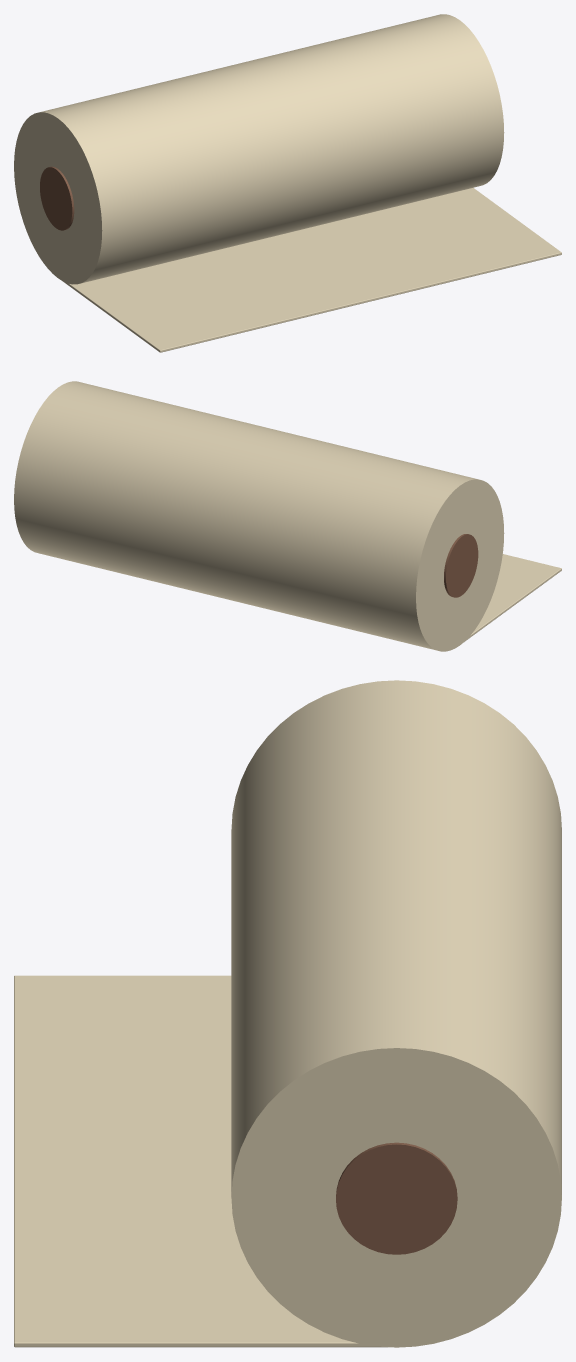
The model's file is griffin-airmail-roost-and-posthouse-wrapping-paper-rol-c3b599dc__30522.glb.
3 views of the same model, one above another, from view 1: azimuth 30°, elevation 25°; view 2: azimuth 150°, elevation 25°; view 3: azimuth 270°, elevation 25° (orthographic). The views are drawn at different scales.
Parts seen in each view (by area): view 1: wrapping-paper-roll; view 2: wrapping-paper-roll; view 3: wrapping-paper-roll.
Boxes of the visible parts, bbox=[...] form: wrapping-paper-roll: bbox=[14, 14, 561, 352]; wrapping-paper-roll: bbox=[14, 381, 561, 651]; wrapping-paper-roll: bbox=[14, 680, 561, 1347].
Size of the model in its own units: 0.505 by 0.19 by 0.315.
